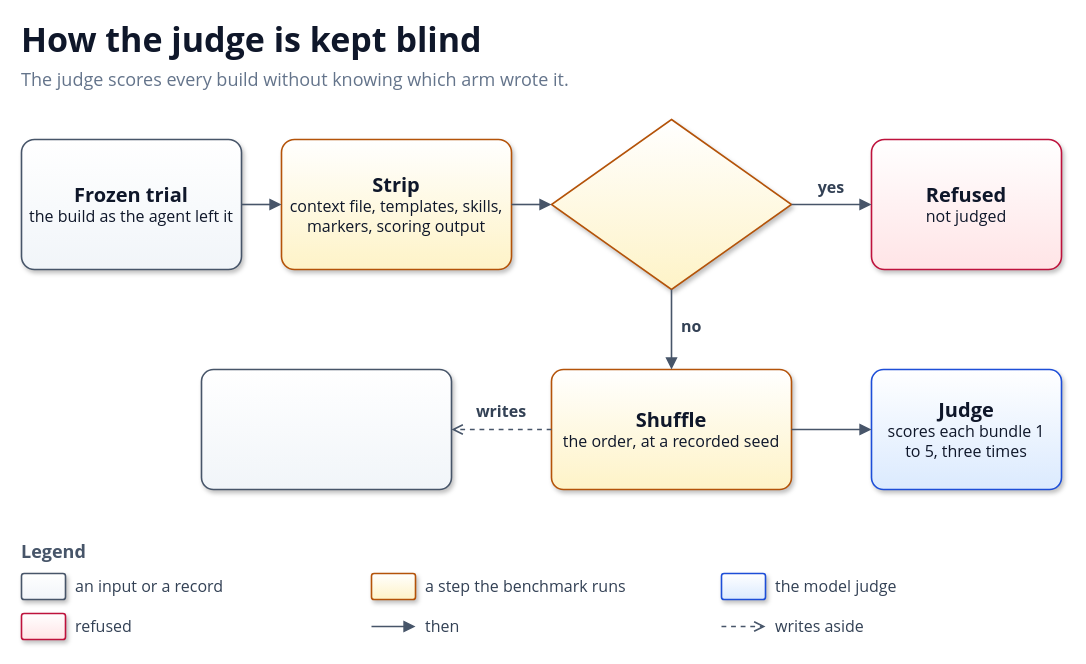
Image size: 1086x664. Some labels were removed from this diagram. Each missing label, with the centre of its shape:
"Leak scan does it still name its arm?" goes at pixel 672 205.
"Unblinding map kept where the judge cannot reach" goes at pixel 327 430.
